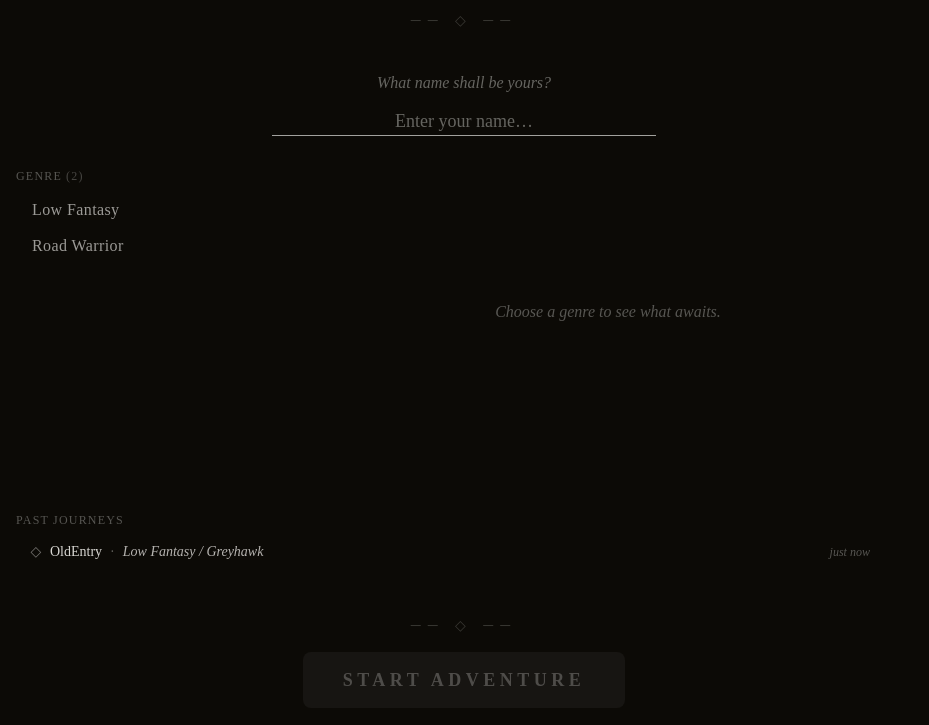
Scenario: ConnectScreen › Past Journeys resume › clicking a legacy Past Journeys row (no slug) falls back to prefill (no slug navigate)
This screenshot has width=929, height=725.
Step 1. Click the button "◇ OldEntry · Low Fantasy / Greyhawk just now" → (76, 552), box [16,536,912,568]
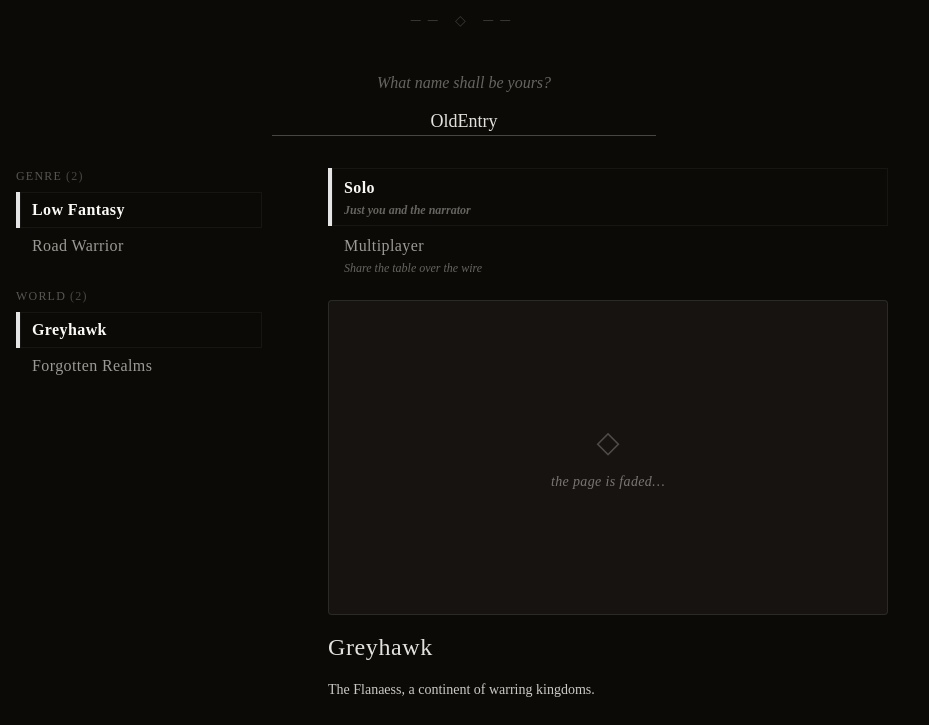
expect the field labelled "What name shall be yours?" holds "OldEntry": met, box [272,107,656,136]
